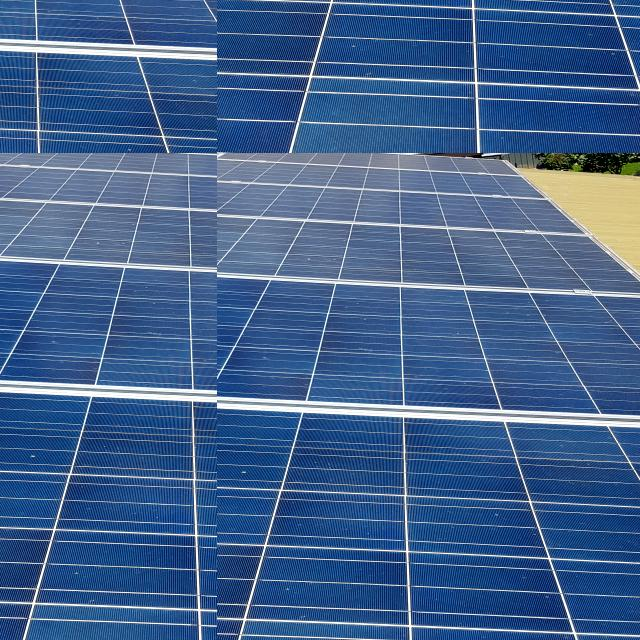dust: (96, 0, 183, 44), (23, 0, 91, 56), (0, 0, 69, 41), (0, 0, 42, 43), (0, 0, 77, 20), (0, 0, 47, 32), (0, 0, 29, 41), (0, 0, 52, 18), (0, 0, 29, 31), (0, 0, 66, 12), (0, 0, 14, 18)
shadow: (0, 153, 37, 165), (217, 0, 232, 4)
